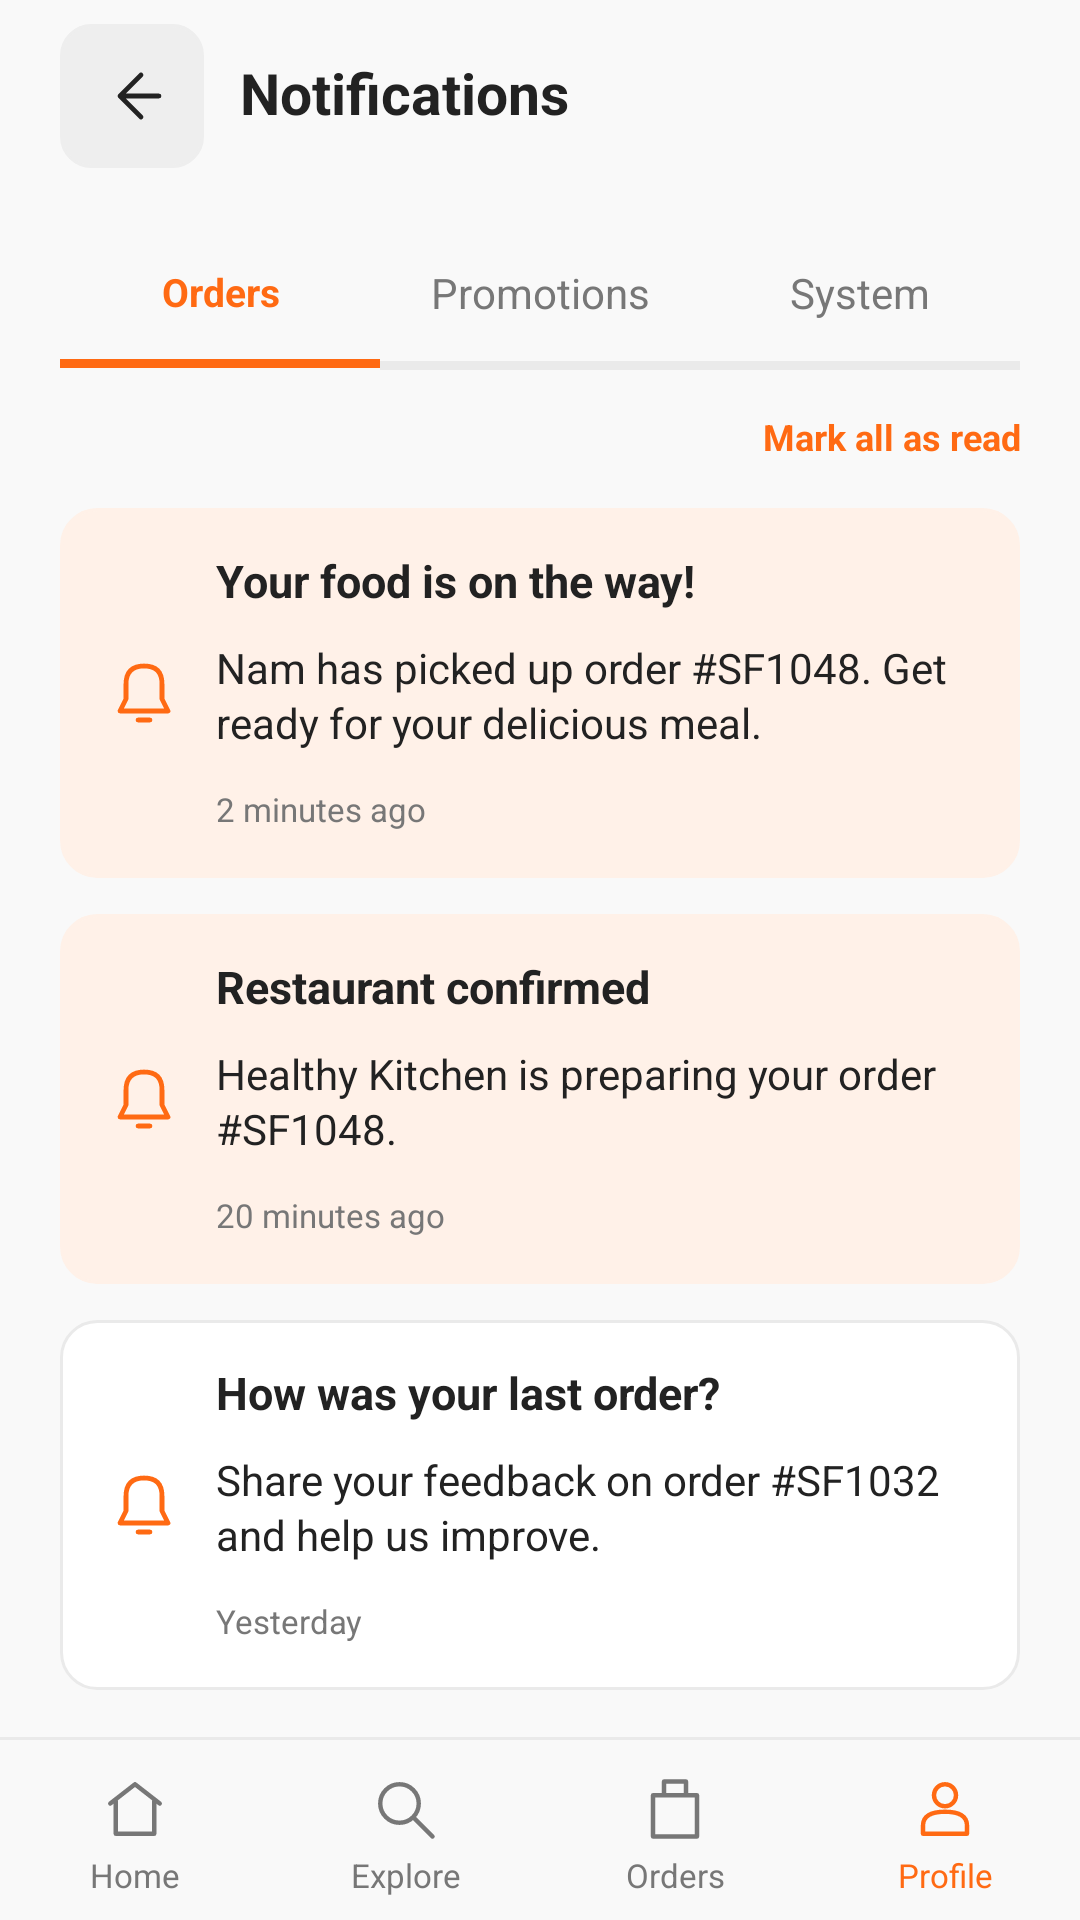

Screen size 1080px x 1920px. Icon name, then its center in pixels as point (x, y):
Back: point (132, 96)
tv bag: point (675, 1809)
tv bell: point (144, 693), point (144, 1099), point (144, 1505)
tv person: point (945, 1809)
tv search: point (406, 1810)
